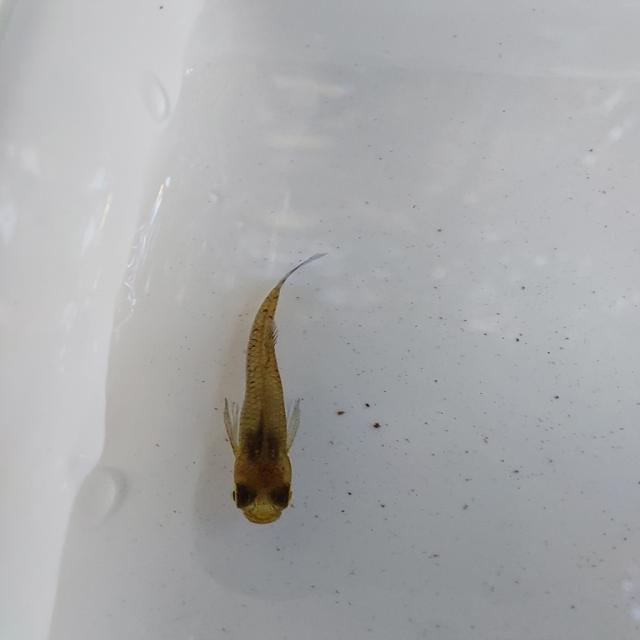Sivrisinek Baligi: (196, 242, 332, 537)
